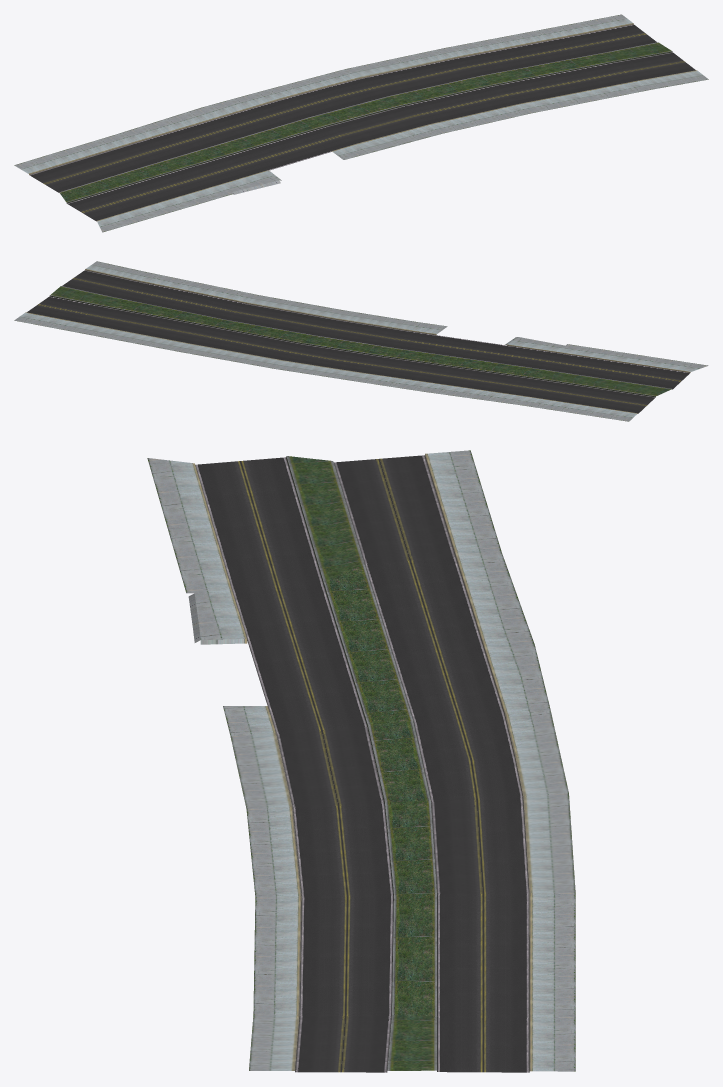
The model's file is roads08_law2.obj.
3 renders of one model, top to bottom at view 1: azimuth 30°, elevation 25°; view 2: azimuth 150°, elevation 25°; view 3: azimuth 270°, elevation 25°, orthographic. The views are drawn at different scales.
Parts seen in each view (by area): view 1: Roads08_LAw2; view 2: Roads08_LAw2; view 3: Roads08_LAw2.
Boxes of the visible parts, x1=… form: Roads08_LAw2: x1=14, y1=14, x2=708, y2=232; Roads08_LAw2: x1=14, y1=261, x2=708, y2=421; Roads08_LAw2: x1=147, y1=450, x2=575, y2=1072.
Size of the model in its own units: 147 by 5.75 by 46.38.
